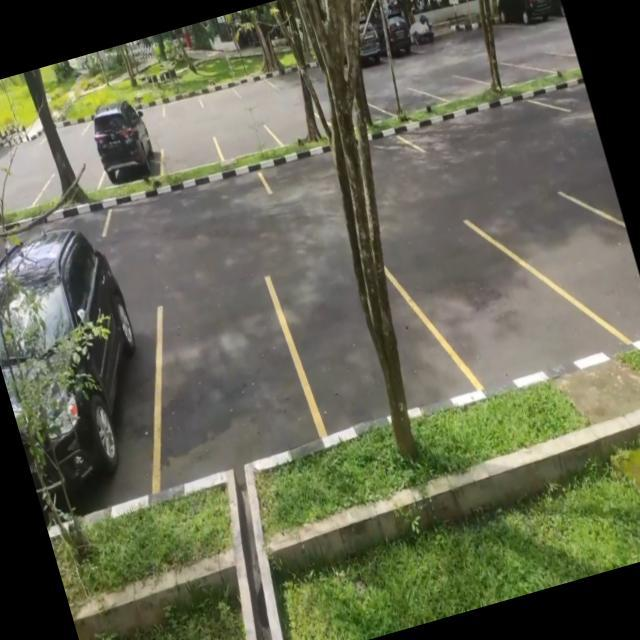empty: (136, 270, 322, 477), (264, 232, 448, 438), (392, 200, 573, 402), (526, 175, 640, 359), (96, 154, 274, 243), (399, 80, 562, 166), (154, 126, 224, 179), (210, 115, 282, 166)
occupied: (0, 247, 188, 524), (82, 99, 168, 192)
